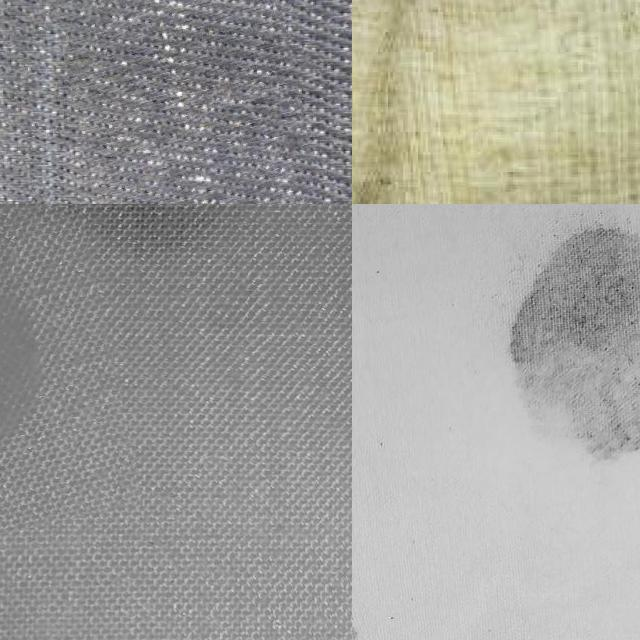Thread_other: (480, 204, 640, 477), (0, 206, 128, 542), (352, 588, 376, 640)
stains: (56, 0, 312, 204)
